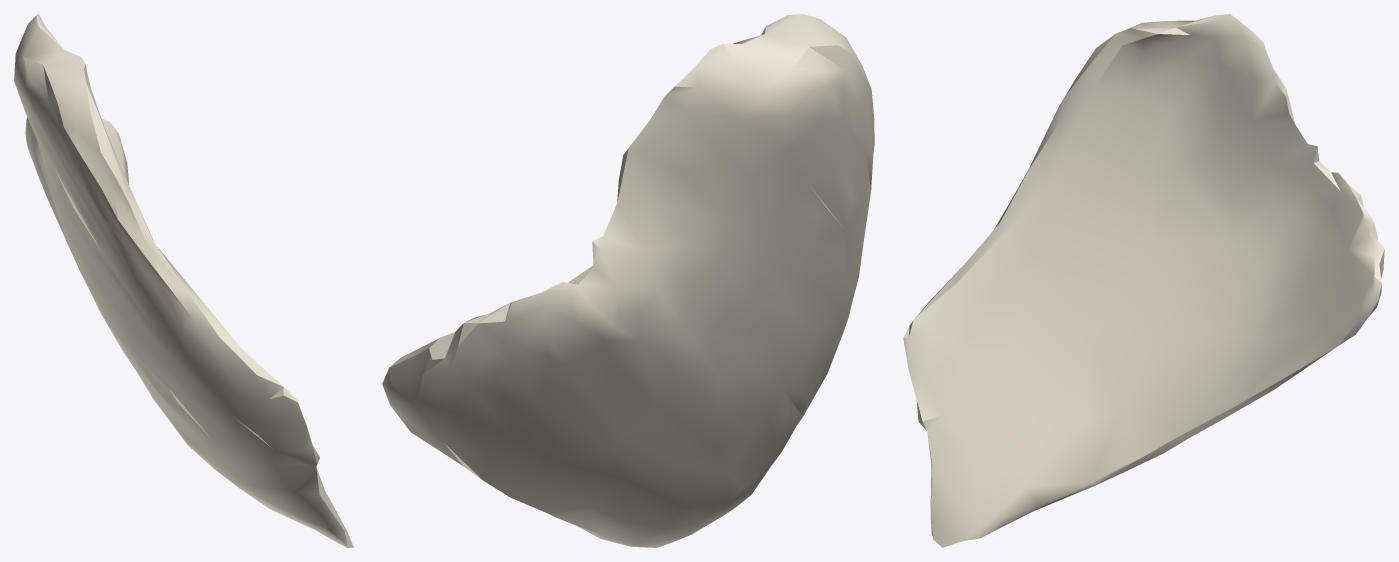
The model's file is fma321703-l_mm1482.glb.
3 views of the same model, side by side, from view 1: azimuth 30°, elevation 25°; view 2: azimuth 150°, elevation 25°; view 3: azimuth 270°, elevation 25° (orthographic). The views are drawn at different scales.
Visible parts, largest first — view 1: FMA321703-L_MM1482; view 2: FMA321703-L_MM1482; view 3: FMA321703-L_MM1482.
Boxes of the visible parts, x1,y1,x2,y2 form: FMA321703-L_MM1482: [14, 14, 353, 547]; FMA321703-L_MM1482: [382, 14, 874, 547]; FMA321703-L_MM1482: [903, 14, 1384, 547].
Bounding box in the file's own units: 0.00409 × 0.00863 × 0.0083.
